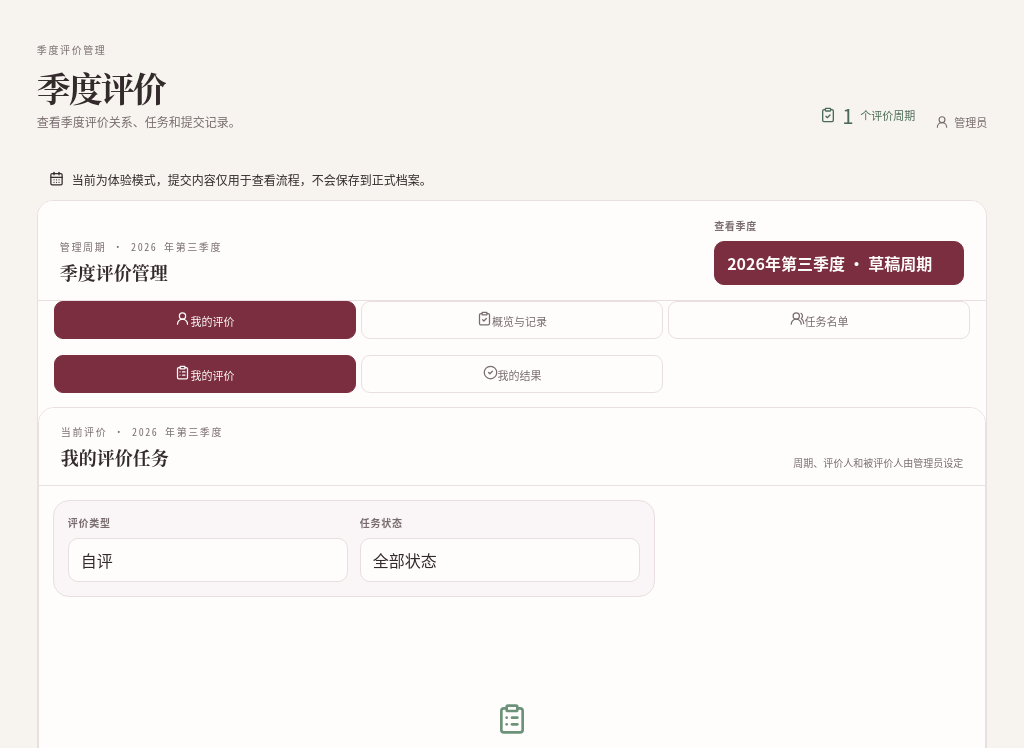
Test: QuarterlyAssessmentsPage › searches and distinguishes people, omits disabled accounts, and lists all missing identity bindings
Click the button "任务名单": click(819, 320) [668,301,970,339]
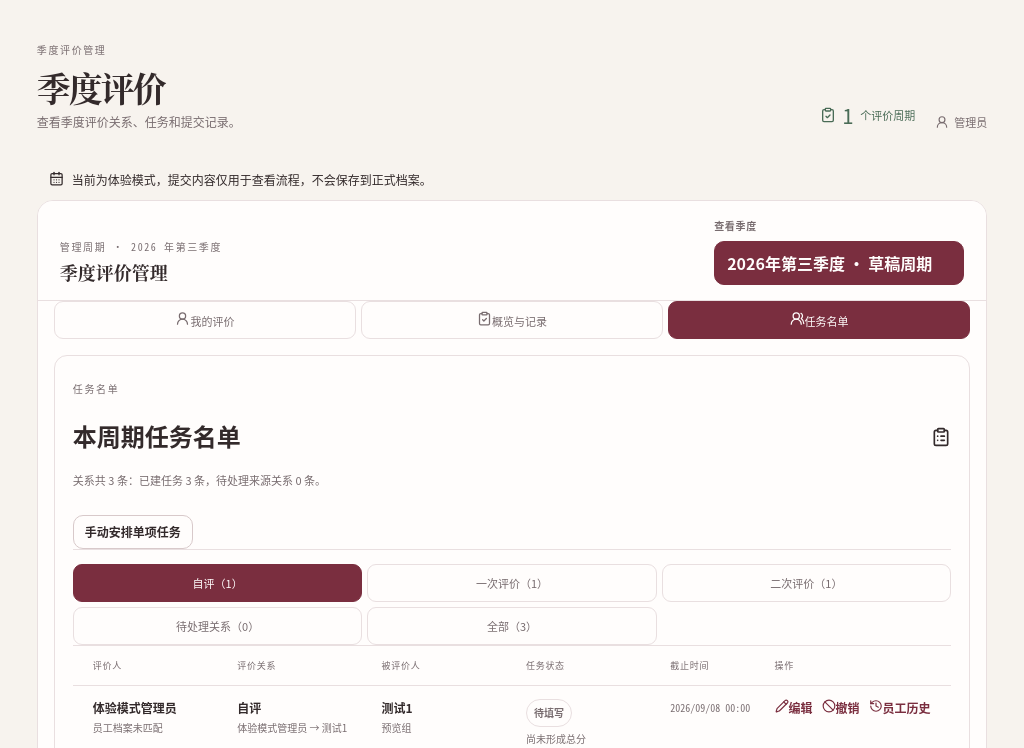
Click the button "手动安排单项任务": click(133, 532) [73,515,193,549]
(page scrolled)
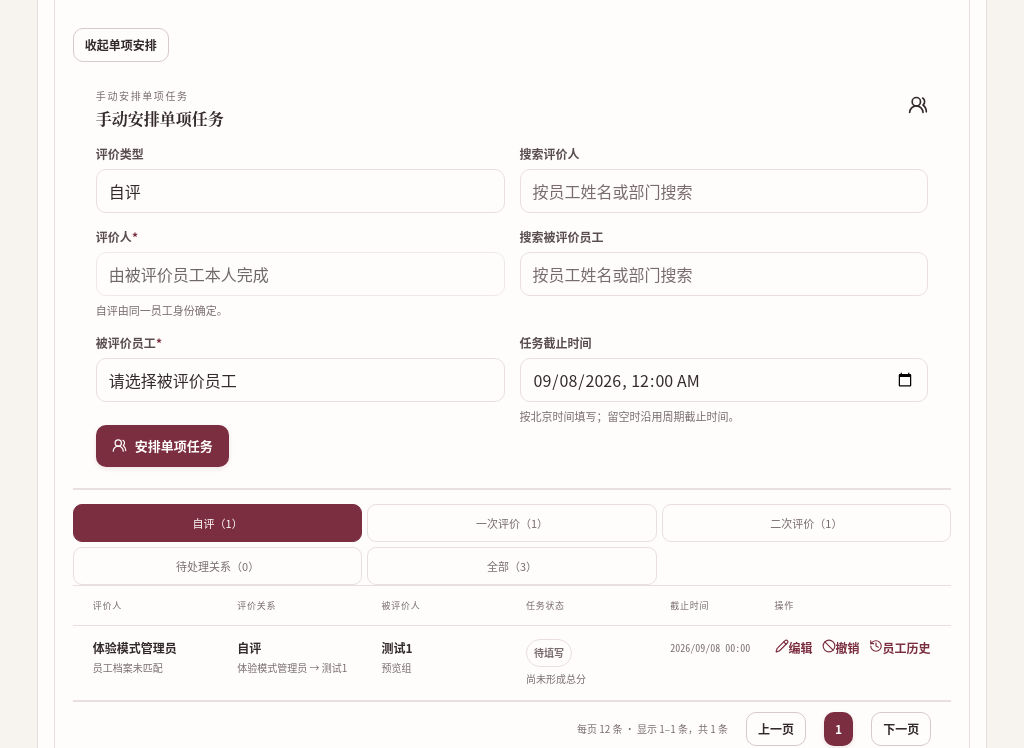
Now the dropdown named "选择评价人" is shown, box [96,252,504,296]
Now the dropdown named "选择被评价员工" is shown, box [96,358,504,402]
